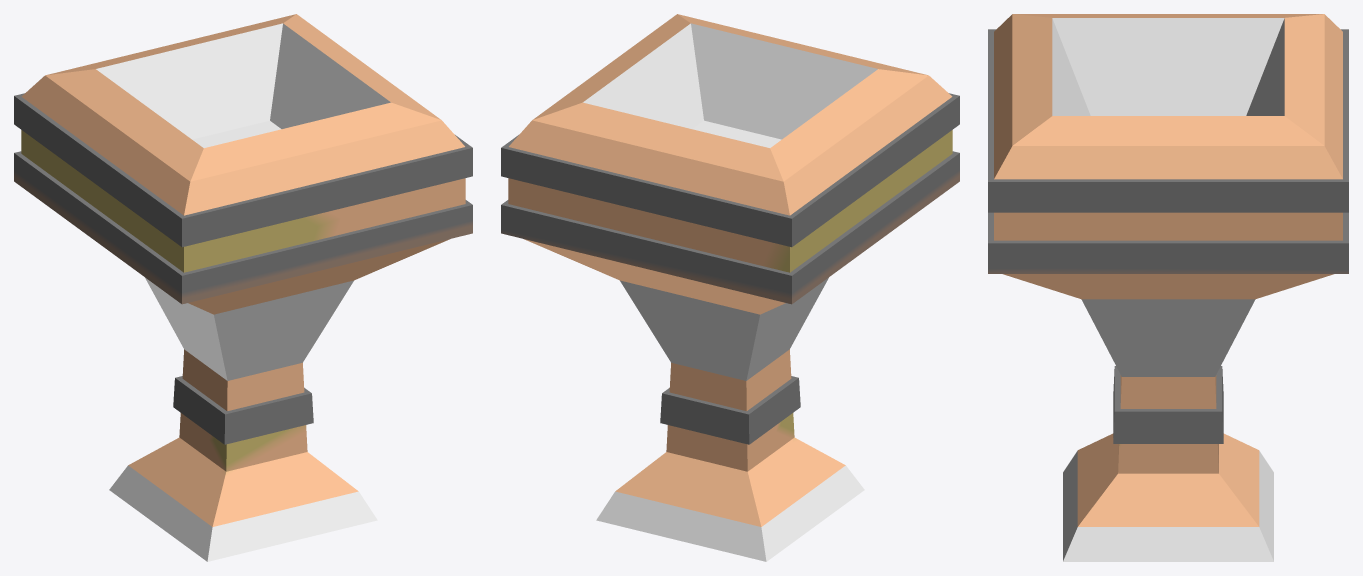
The model's file is DesertBrazzier.glb.
The picture shows the model from 3 angles, left to right: view 1: azimuth 30°, elevation 25°; view 2: azimuth 150°, elevation 25°; view 3: azimuth 270°, elevation 25°; orthographic projection. The views are drawn at different scales.
Parts seen in each view (by area): view 1: DesertBrazzier; view 2: DesertBrazzier; view 3: DesertBrazzier.
Part boxes in pixels (x1,y1,x2,y2): DesertBrazzier: (14, 14, 472, 561); DesertBrazzier: (501, 14, 959, 561); DesertBrazzier: (988, 14, 1348, 561).
Size of the model in its own units: 1.51 by 2.08 by 1.51.
Materials: 1 (1 with a texture image).
